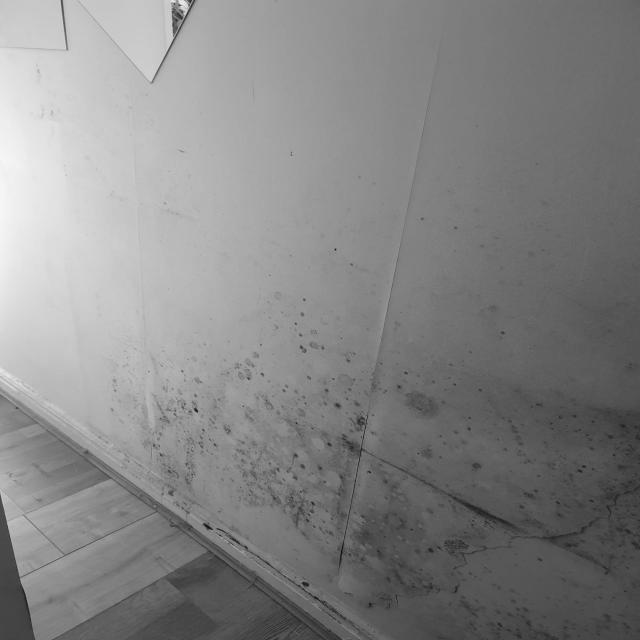stain marks: (94, 305, 640, 640), (297, 198, 640, 302), (97, 133, 231, 245), (413, 144, 640, 200), (15, 53, 68, 148), (256, 119, 310, 175), (354, 162, 396, 194)
